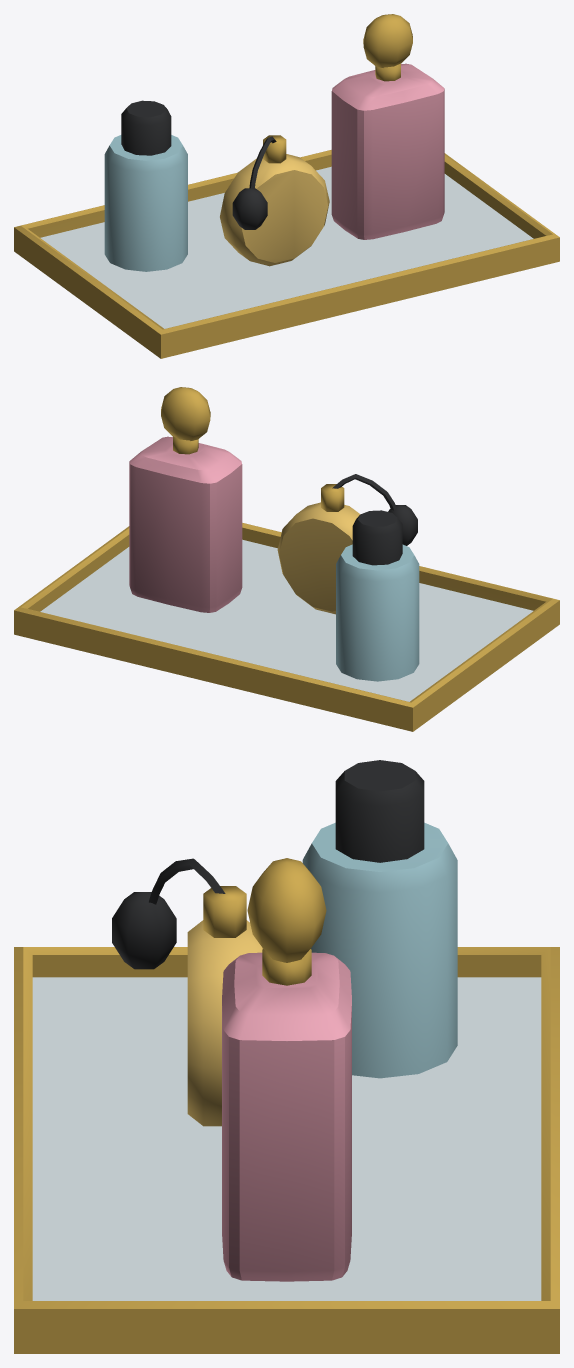
File: perfumeTray.glb
The picture shows the model from 3 angles, top to bottom: view 1: azimuth 30°, elevation 25°; view 2: azimuth 150°, elevation 25°; view 3: azimuth 270°, elevation 25°; orthographic projection. The views are drawn at different scales.
Visible parts, largest first — view 1: perfumeTray; view 2: perfumeTray; view 3: perfumeTray.
Boxes of the visible parts, x1,y1,x2,y2 form: perfumeTray: [14, 14, 559, 358]; perfumeTray: [14, 387, 559, 731]; perfumeTray: [14, 760, 559, 1353].
Bounding box in the file's own units: 0.276 × 0.143 × 0.176.
